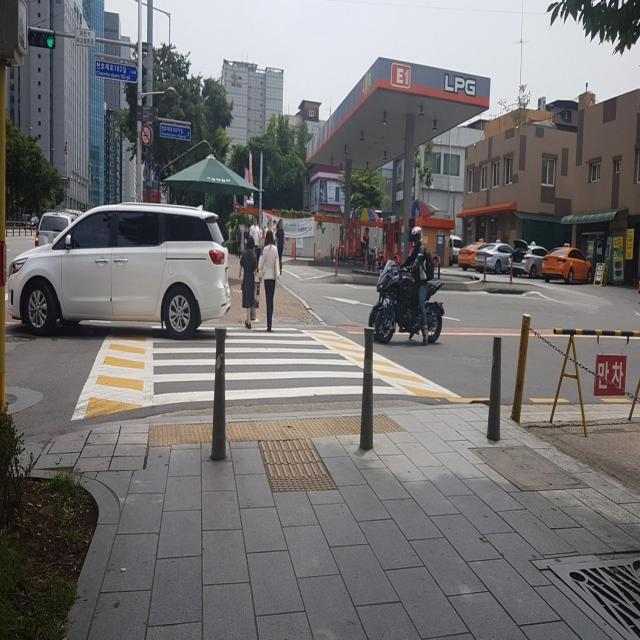횡단보도: (152, 325, 395, 409)
